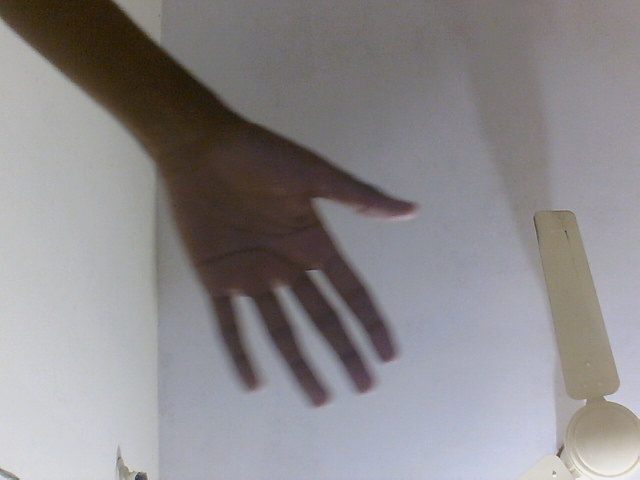hand: (125, 121, 422, 412)
